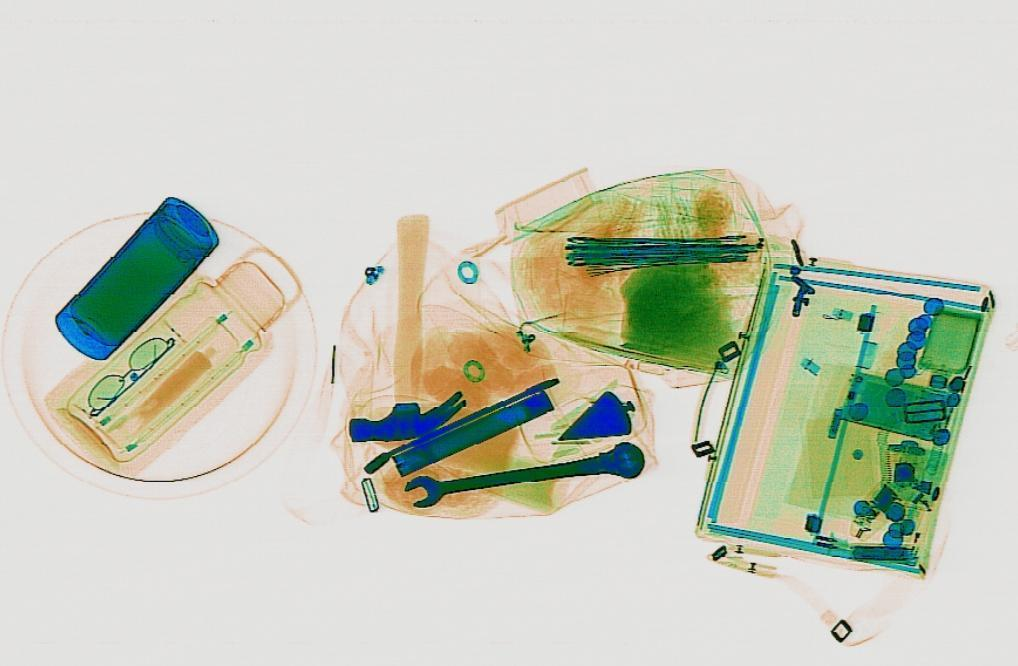Wrench: (395, 439, 651, 512)
